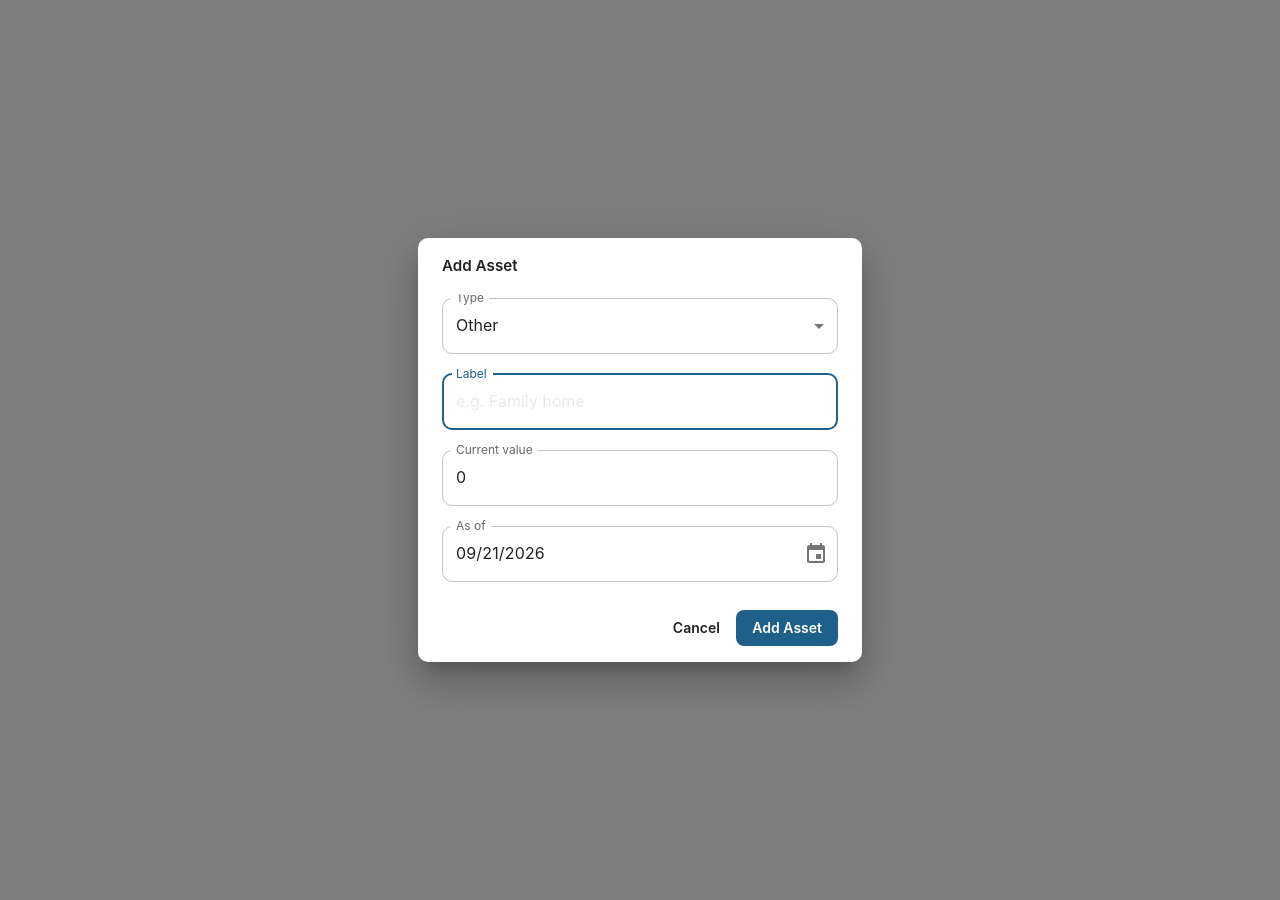
AssetFormDialog › requires a label
The image size is (1280, 900).
Replace the text in the number field labelled "Current value" with "1000": [640, 478] box [442, 450, 838, 506]
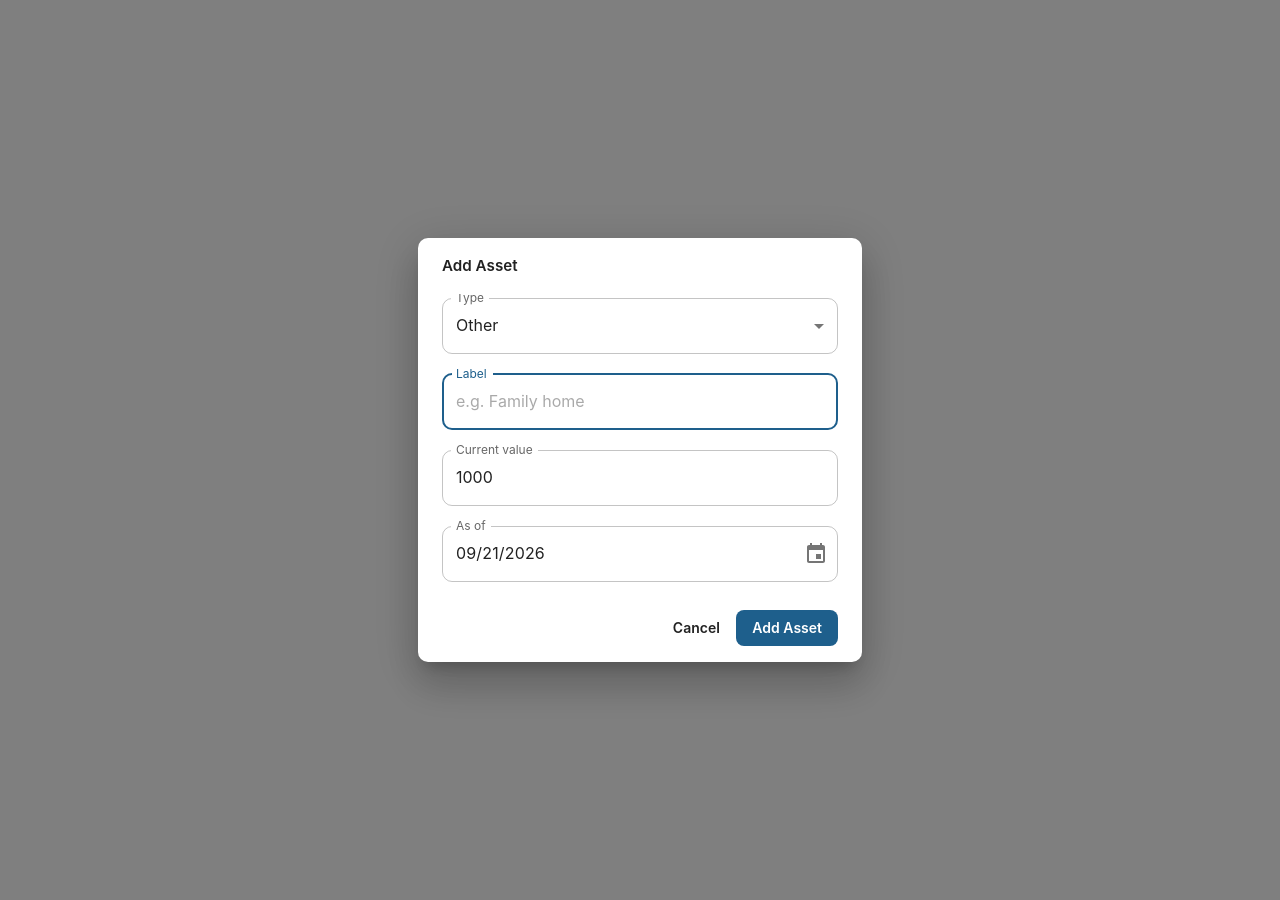
Click the button "Add Asset": [787, 628] box [736, 610, 838, 646]
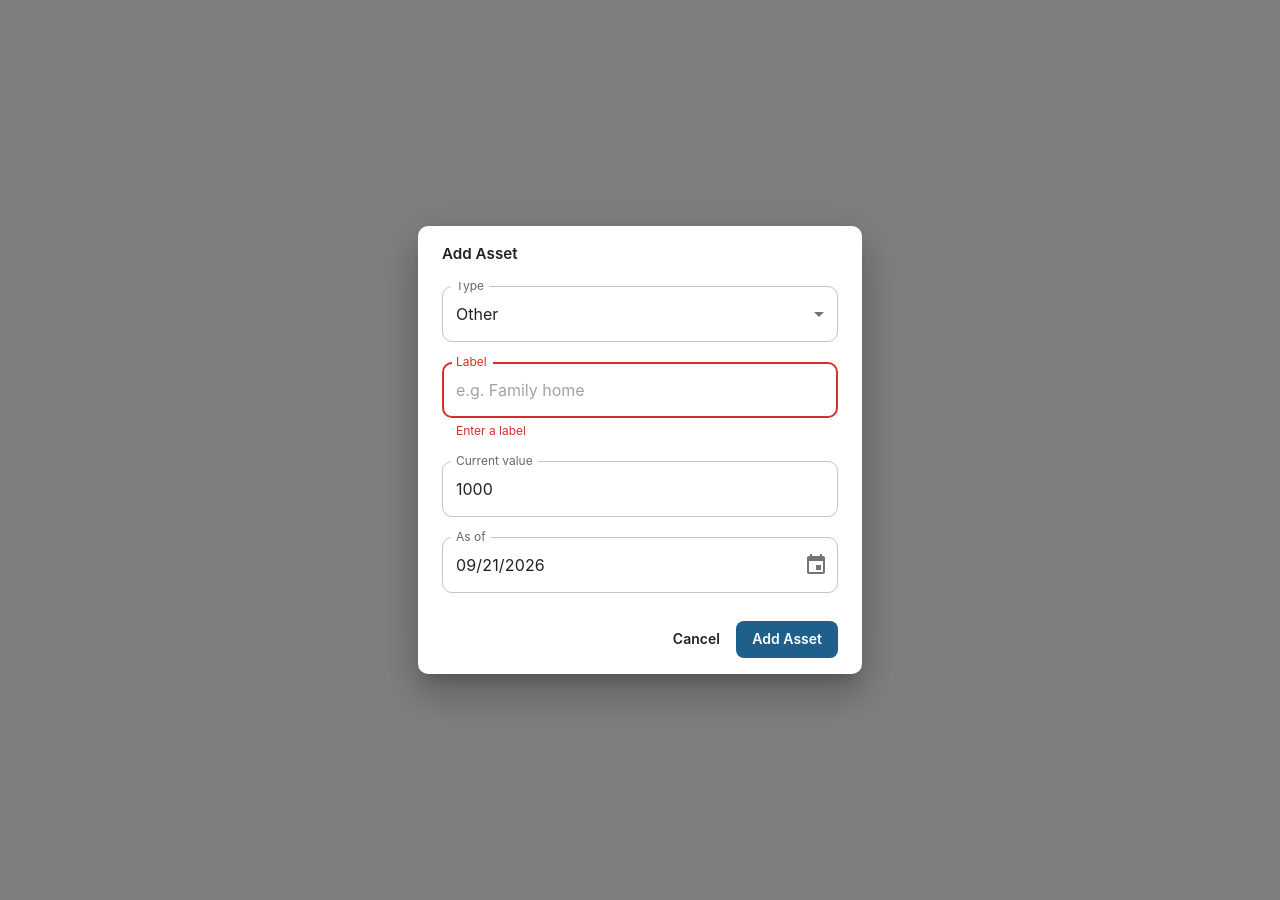
Expected: the text "Enter a label" is shown, [456, 424, 526, 438]
